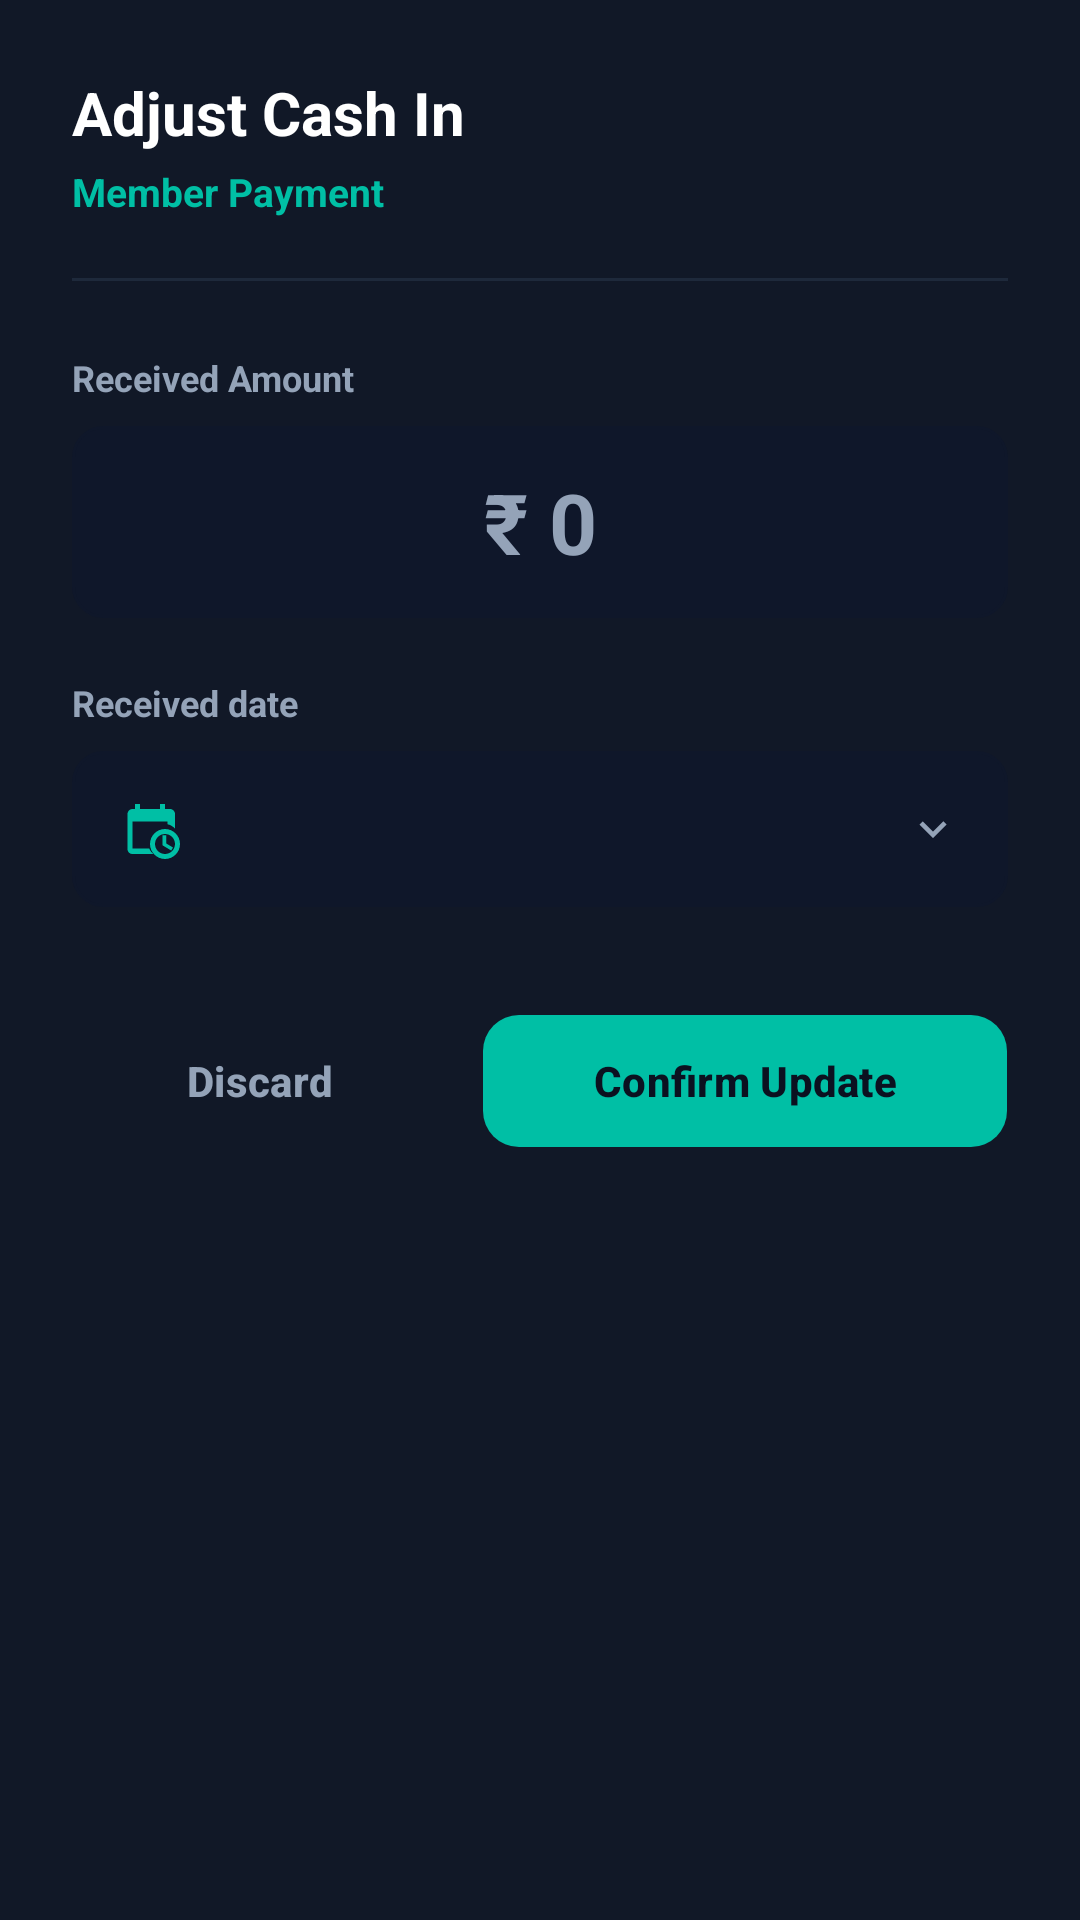

Icon click points for this 1080px×1920px phone screenshot, format (x=x, y=y):
calendar clock: (x=153, y=831)
